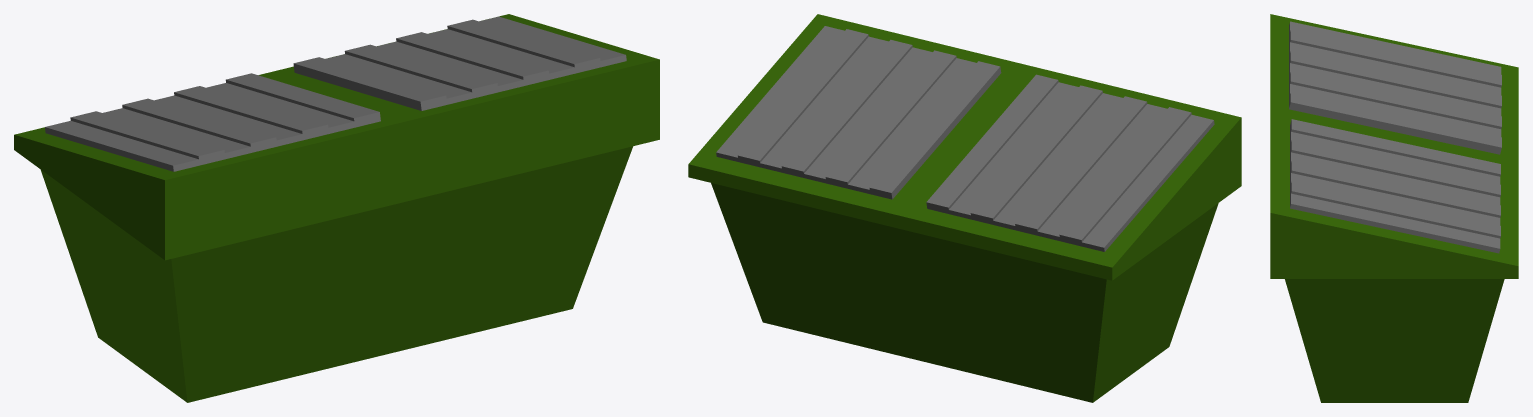
Rendered from Garbage Container.fbx.
3 views of the same model, side by side, from view 1: azimuth 30°, elevation 25°; view 2: azimuth 150°, elevation 25°; view 3: azimuth 270°, elevation 25° (orthographic). The views are drawn at different scales.
Visible parts, largest first — view 1: Group1; view 2: Group1; view 3: Group1.
Part boxes in pixels (left/top/right/bottom): Group1: left=14, top=14, right=659, bottom=402; Group1: left=688, top=14, right=1241, bottom=402; Group1: left=1270, top=14, right=1518, bottom=402.
Bounding box in the file's own units: 976 × 494 × 516.
